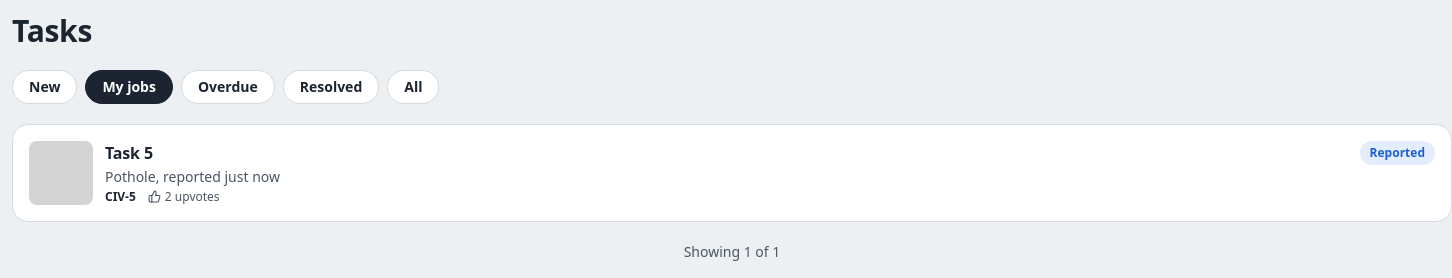
Test case: tasks list › opens on the filter chosen in the link and switches filters
expect the heading "Task 5" is shown: met, box [105,140,153,164]
Click the button "Resolved".
click(331, 86)  # box [283,70,379,104]
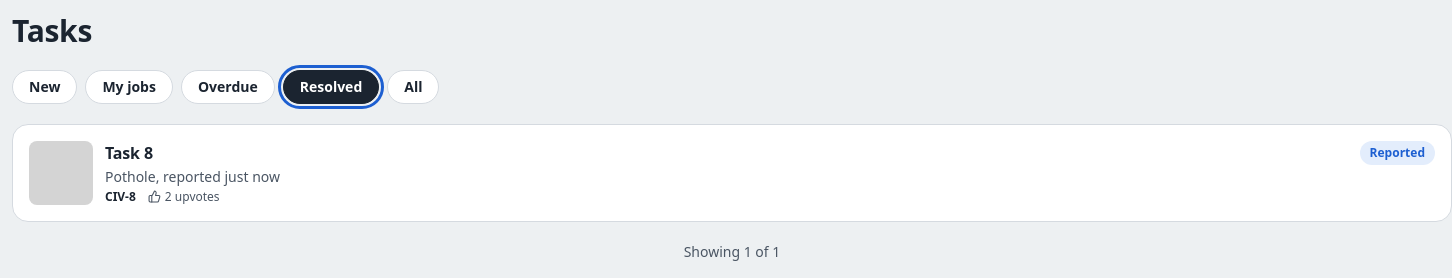
expect the heading "Task 8" is shown: met, box [105,140,153,164]
